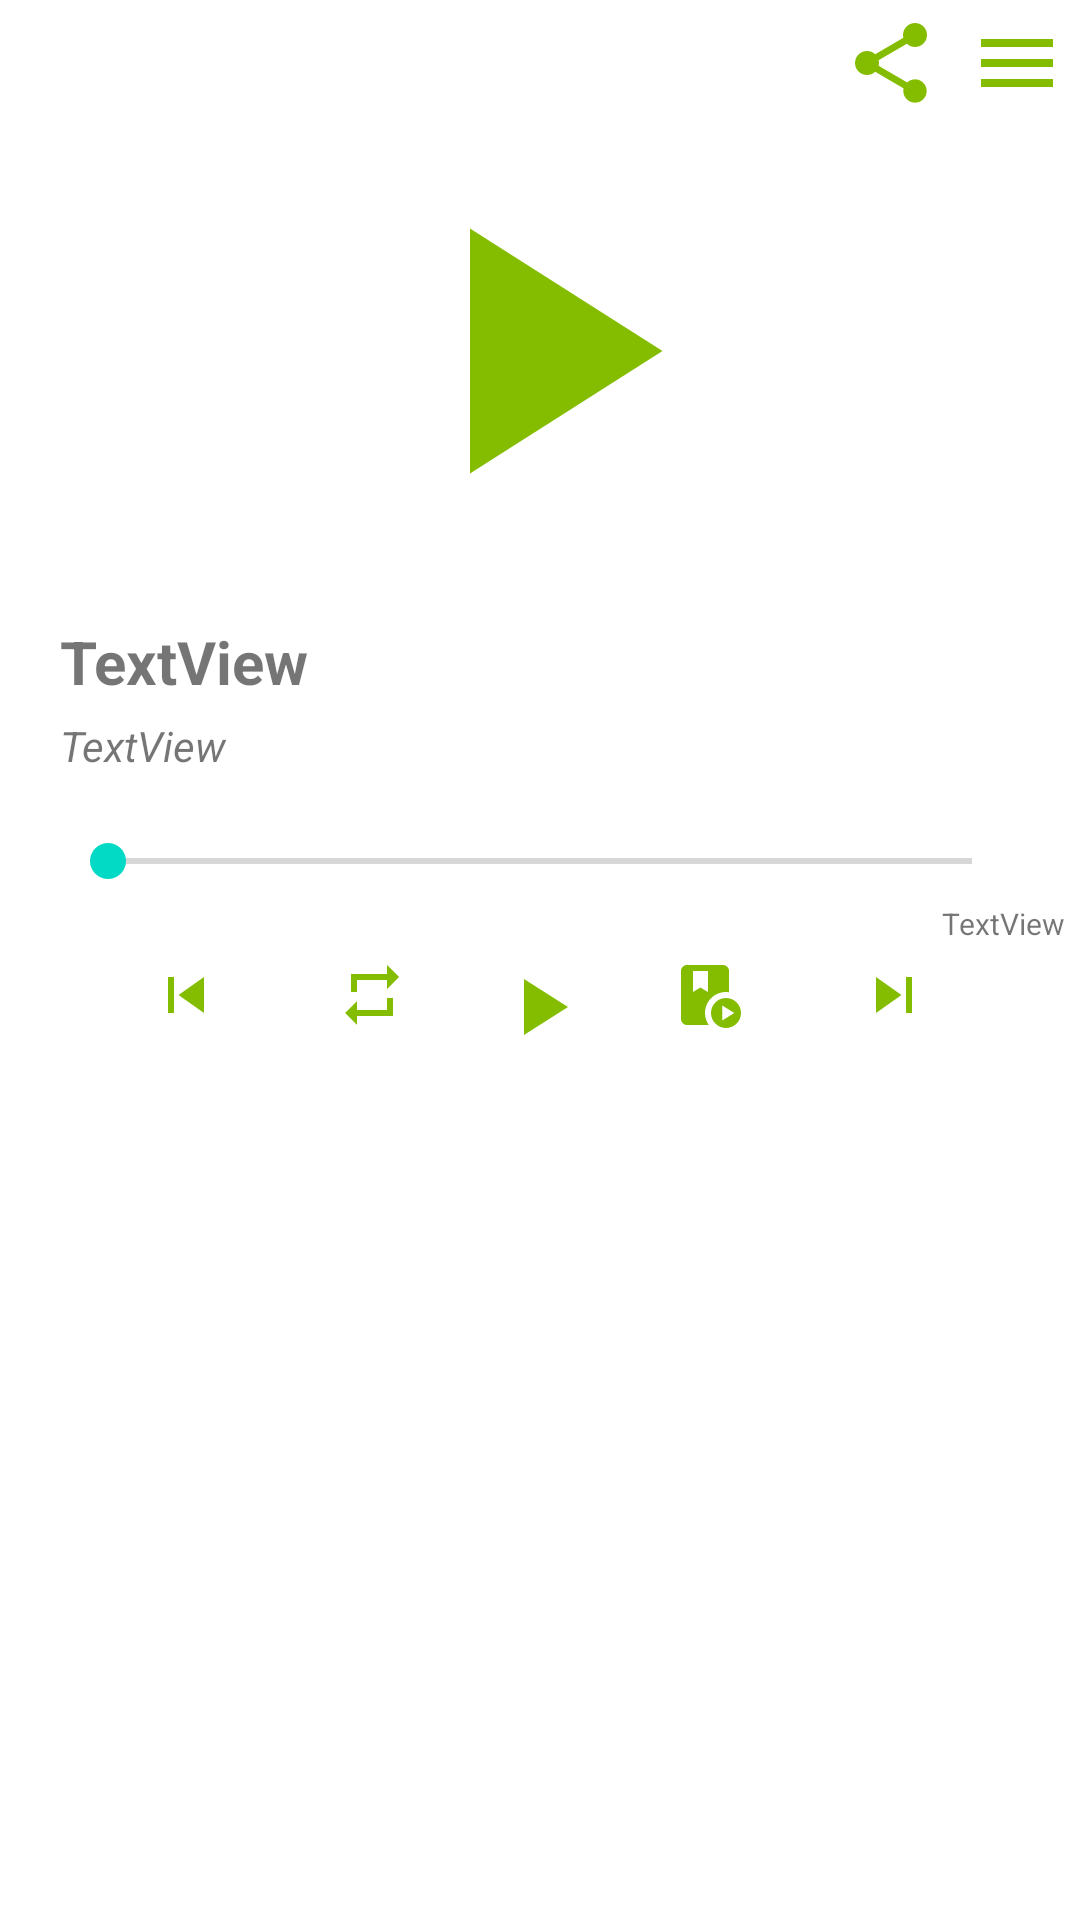

Icon bounding boxes for this 1080px×1920px phone screenshot, format BBox(x1, y1, x2, y2):
menu: BBox(981, 39, 1053, 87)
play arrow: BBox(470, 228, 662, 474), BBox(524, 979, 568, 1035)
play lesson: BBox(681, 965, 741, 1028)
repeat: BBox(345, 965, 399, 1025)
share: BBox(855, 23, 927, 103)
skip next: BBox(876, 977, 912, 1013)
skip previous: BBox(168, 977, 204, 1013)
